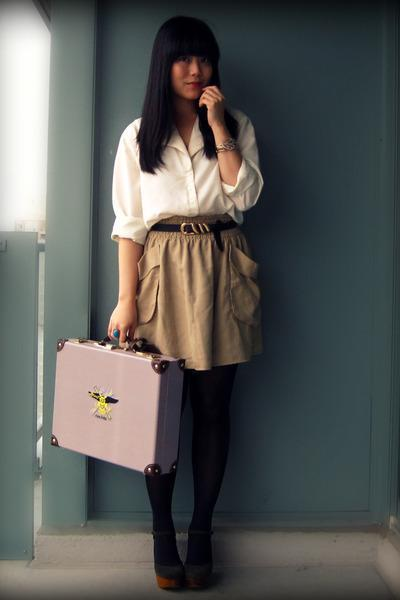bag: (37, 338, 191, 474)
shirt: (111, 114, 263, 251)
shoe: (159, 553, 224, 593)
skirt: (124, 212, 262, 369)
